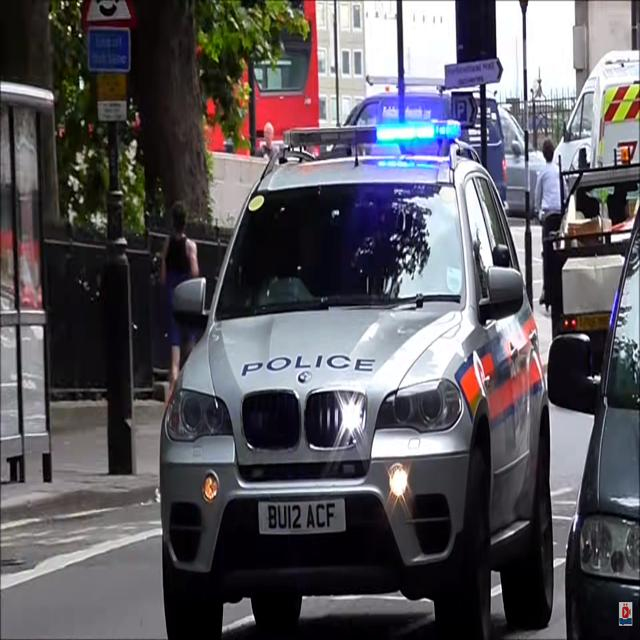emergency-vehicles: (127, 108, 582, 640), (539, 32, 640, 194)
